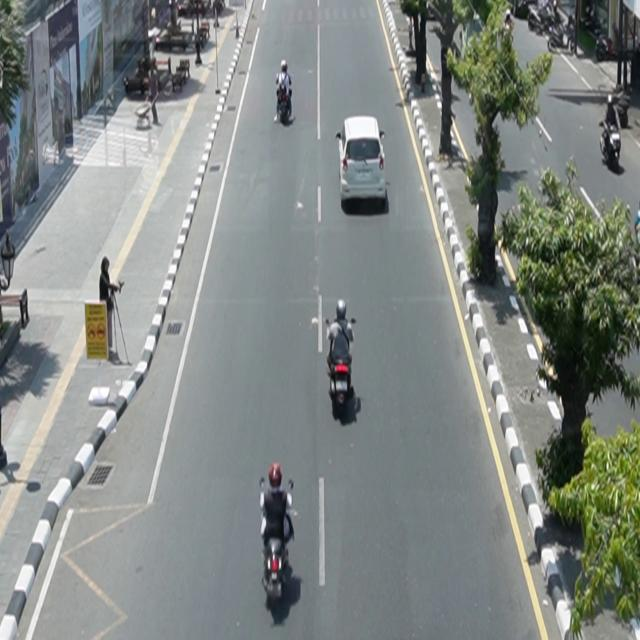car: (336, 115, 388, 207)
